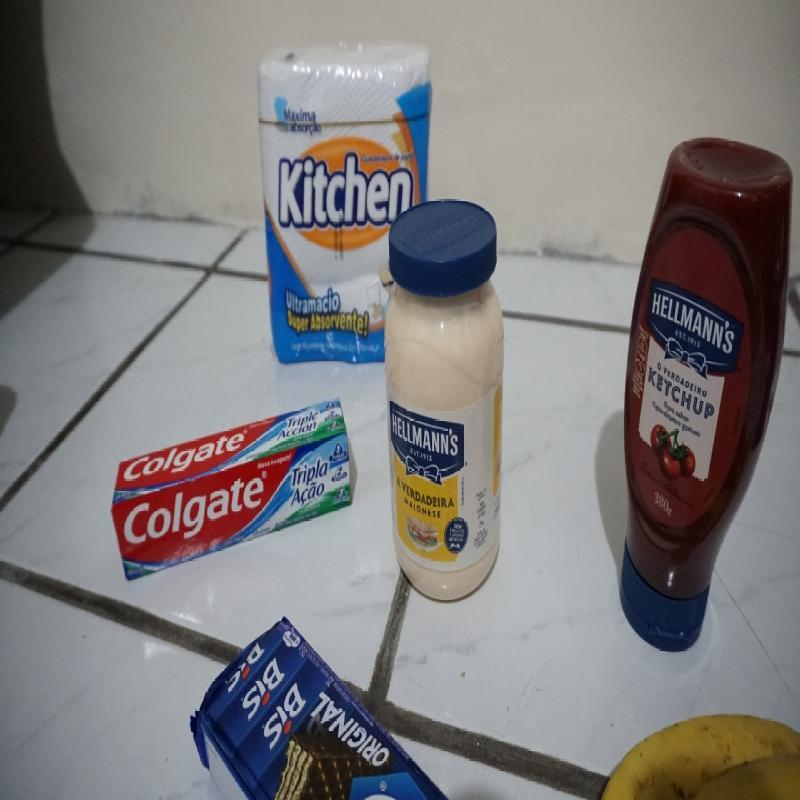Banana: (596, 713, 799, 796)
Ketchup: (621, 137, 793, 656)
Mayonnaise: (385, 200, 503, 604)
Napkin: (258, 49, 432, 362)
Toothpaste: (112, 398, 352, 582)
